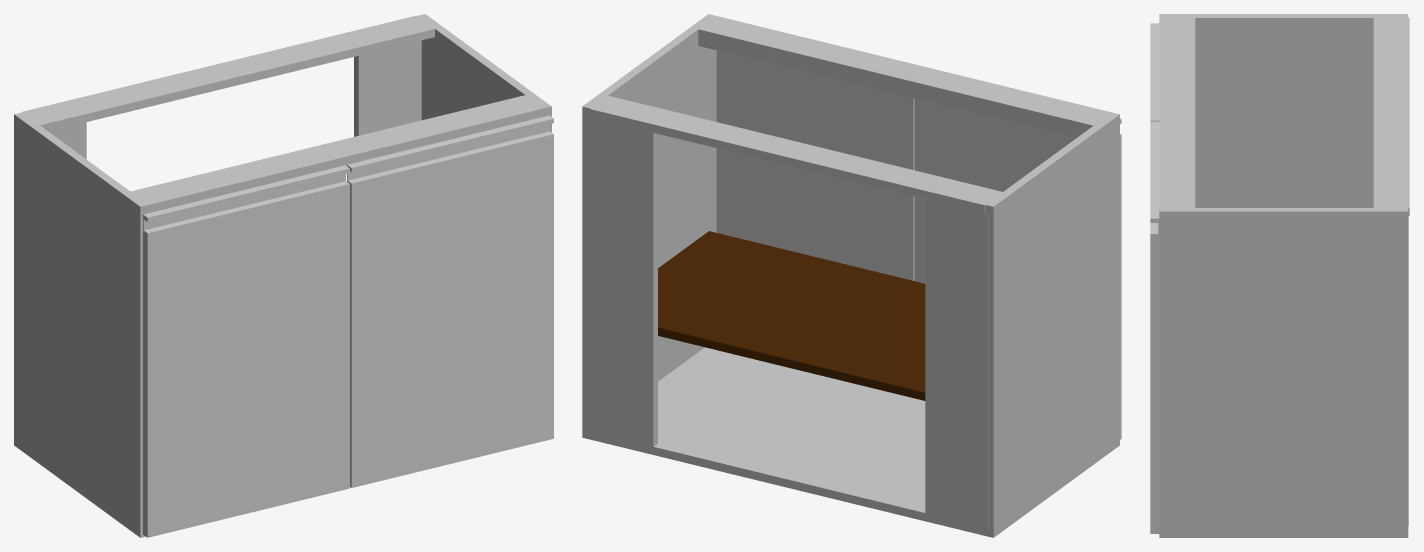
Rendered from proyecto.glb.
3 renders of one model, left to right at view 1: azimuth 30°, elevation 25°; view 2: azimuth 150°, elevation 25°; view 3: azimuth 270°, elevation 25°, orthographic.
Parts seen in each view (by area): view 1: P002, P010, P004, P009, P006, P001, P007, P011; view 2: P004, P005, P010, P003, P007, P011, P001, P002, P006, P009, P008; view 3: P001, P004, P006, P009, P010, P002.
Part boxes in pixels (x1=…): P002: x1=143, y1=165, x2=349, y2=537; P010: x1=347, y1=115, x2=553, y2=487; P004: x1=14, y1=112, x2=148, y2=537; P009: x1=130, y1=95, x2=543, y2=212; P006: x1=22, y1=15, x2=434, y2=131; P001: x1=418, y1=14, x2=551, y2=132; P007: x1=354, y1=40, x2=421, y2=136; P011: x1=48, y1=122, x2=86, y2=159; P004: x1=985, y1=112, x2=1119, y2=537; P005: x1=590, y1=347, x2=985, y2=535; P010: x1=716, y1=50, x2=914, y2=280; P003: x1=658, y1=231, x2=925, y2=400; P007: x1=590, y1=117, x2=657, y2=446; P011: x1=925, y1=199, x2=988, y2=528; P001: x1=582, y1=14, x2=716, y2=439; P002: x1=914, y1=99, x2=1121, y2=439; P006: x1=589, y1=95, x2=1002, y2=213; P009: x1=698, y1=16, x2=1111, y2=131; P008: x1=698, y1=37, x2=1084, y2=137; P001: x1=1159, y1=208, x2=1408, y2=537; P004: x1=1159, y1=14, x2=1408, y2=207; P006: x1=1373, y1=18, x2=1409, y2=215; P009: x1=1159, y1=18, x2=1195, y2=207; P010: x1=1150, y1=121, x2=1159, y2=533; P002: x1=1150, y1=23, x2=1159, y2=121.
Bounding box in the file's own units: 0.78 × 0.6 × 0.432.
